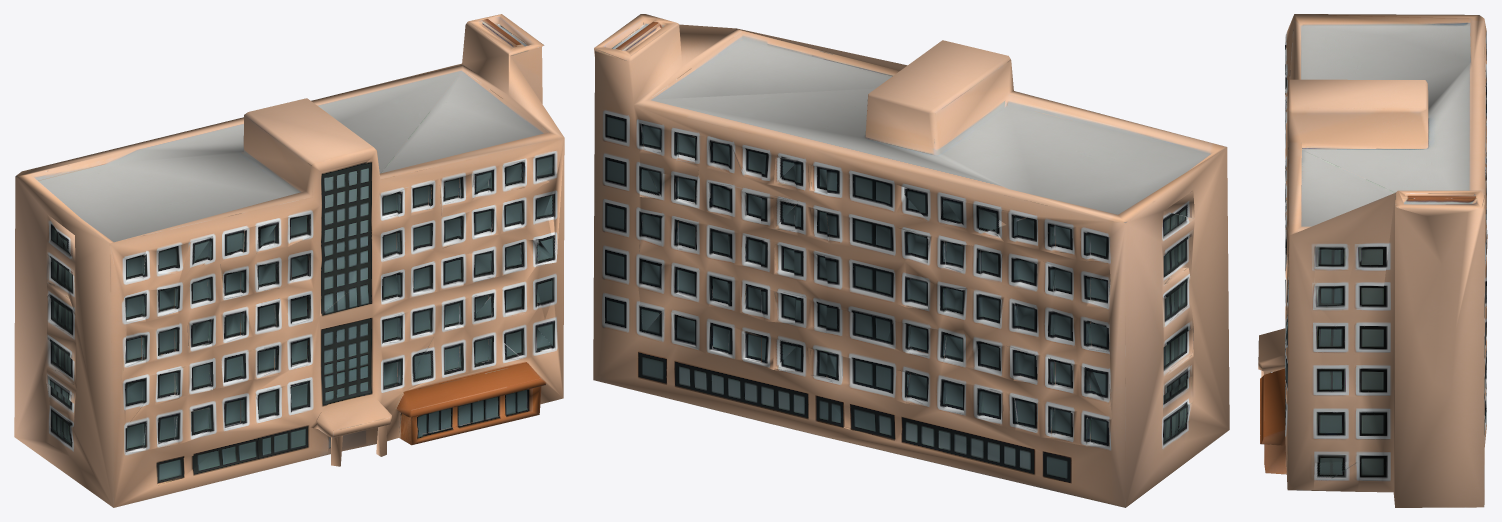
Rendered from tamgu.glb.
3 renders of one model, left to right at view 1: azimuth 30°, elevation 25°; view 2: azimuth 150°, elevation 25°; view 3: azimuth 270°, elevation 25°, orthographic. The views are drawn at different scales.
Visible parts, largest first — view 1: Mesh_0.008; view 2: Mesh_0.008; view 3: Mesh_0.008.
Part boxes in pixels (left/top/right/bottom): Mesh_0.008: left=14, top=14, right=564, bottom=507; Mesh_0.008: left=593, top=14, right=1229, bottom=507; Mesh_0.008: left=1258, top=14, right=1487, bottom=507.
Size of the model in its own units: 53.13 by 31.76 by 21.76.
Materials: 1 (1 with a texture image).
